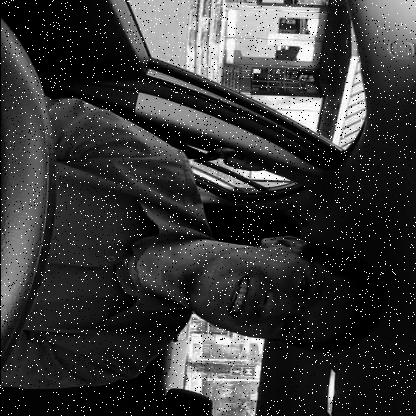no_seatbelt: (0, 118, 381, 379)
